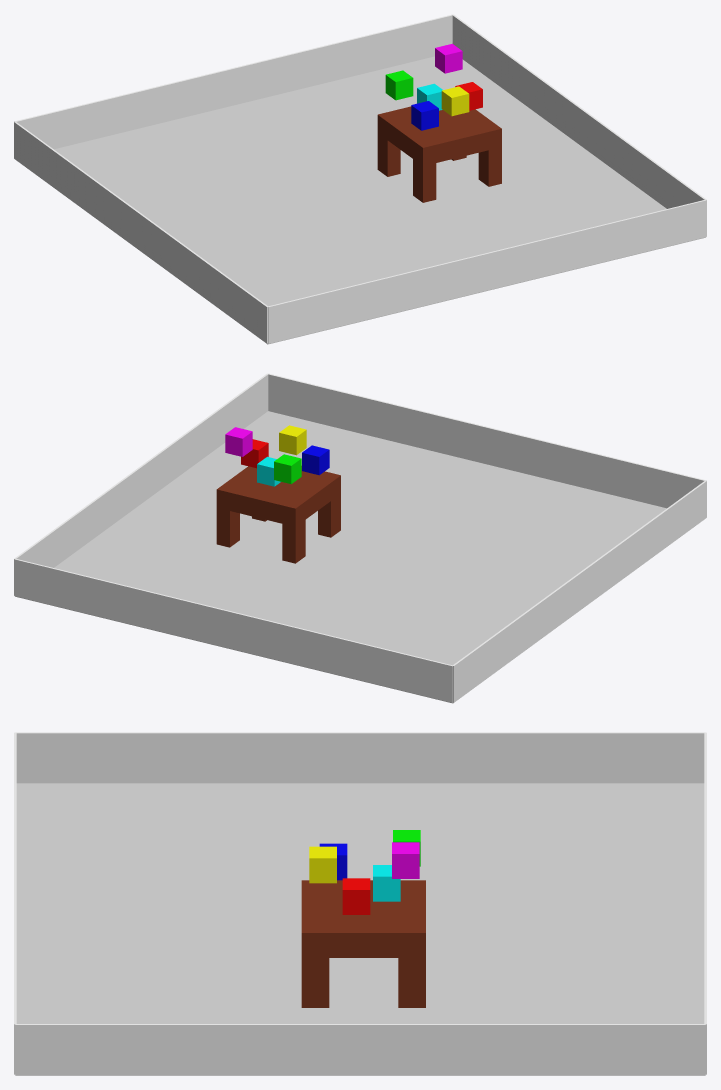
3 views of the same model, one above another, from view 1: azimuth 30°, elevation 25°; view 2: azimuth 150°, elevation 25°; view 3: azimuth 270°, elevation 25° (orthographic). The views are drawn at different scales.
Visible parts, largest first — view 1: _dummylink0_ (×5), base (×8); view 2: _dummylink0_ (×5), base (×8); view 3: _dummylink0_ (×5), base (×7).
Boxes of the visible parts, <box> form: _dummylink0_ (×5): <box>14,14,706,344</box>; base (×8): <box>377,43,501,202</box>; _dummylink0_ (×5): <box>14,373,706,703</box>; base (×8): <box>216,425,340,563</box>; _dummylink0_ (×5): <box>14,732,706,1075</box>; base (×7): <box>301,842,425,1007</box>.
Bounding box in the file's own units: 5.02 × 5.02 × 1.21.
